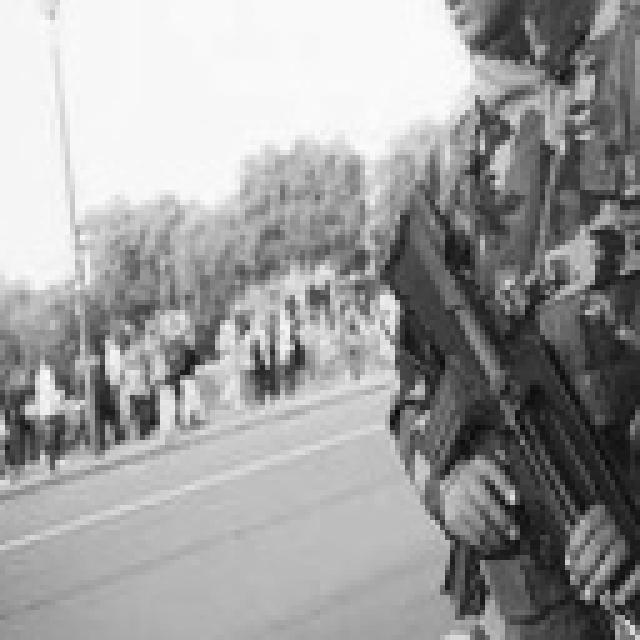Rifle: (365, 160, 640, 640)
